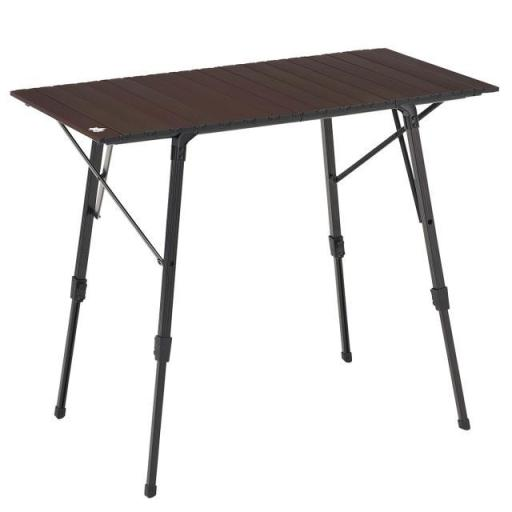table: (3, 41, 509, 501)
